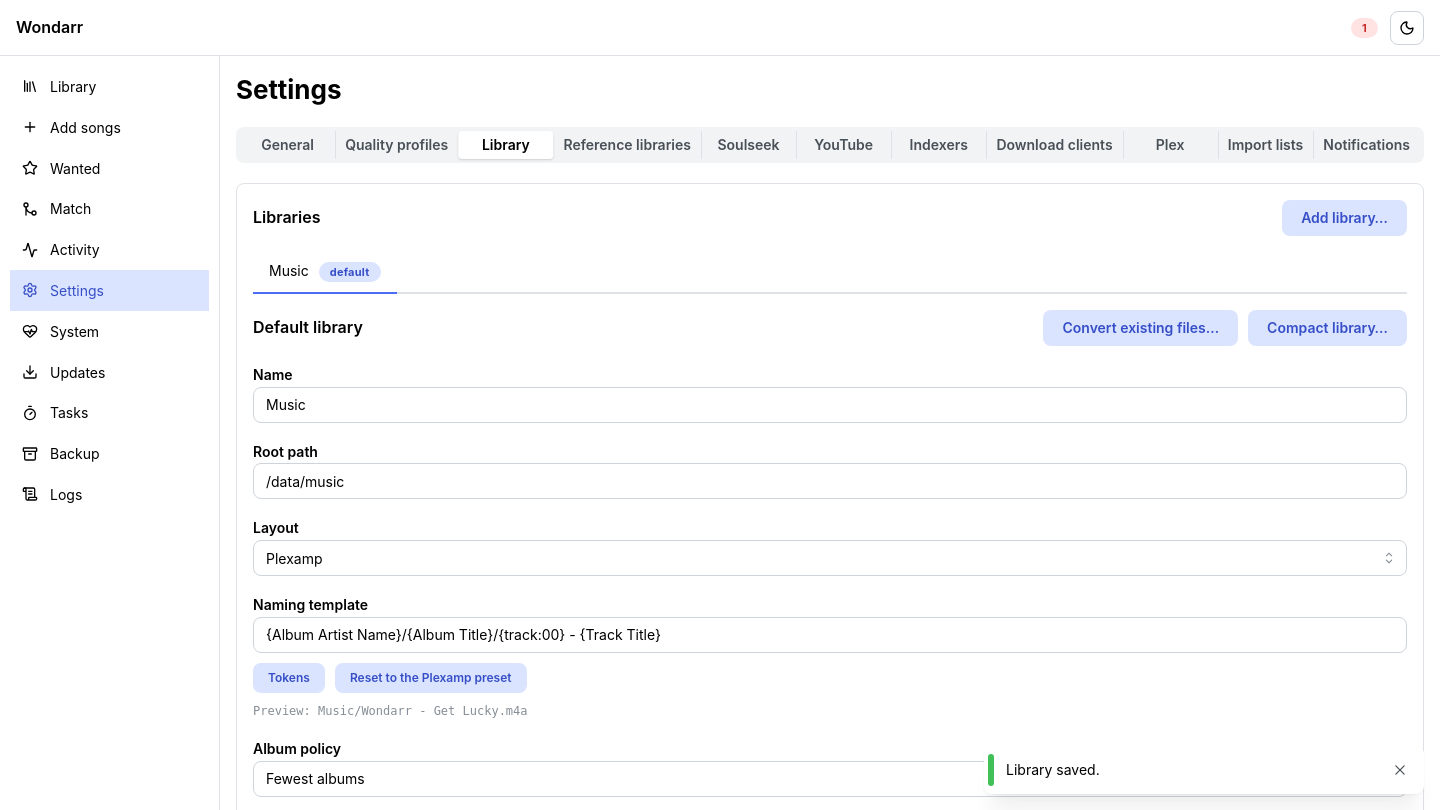
Test case: LibrarySettingsPage › opens the Compact library dialog from the library card
This screenshot has width=1440, height=810.
Check: the field showing "Music" is shown, box [253,387,1407,423]
Click the button "Compact library…". click: point(1328, 328)
box: [1248,310,1407,346]
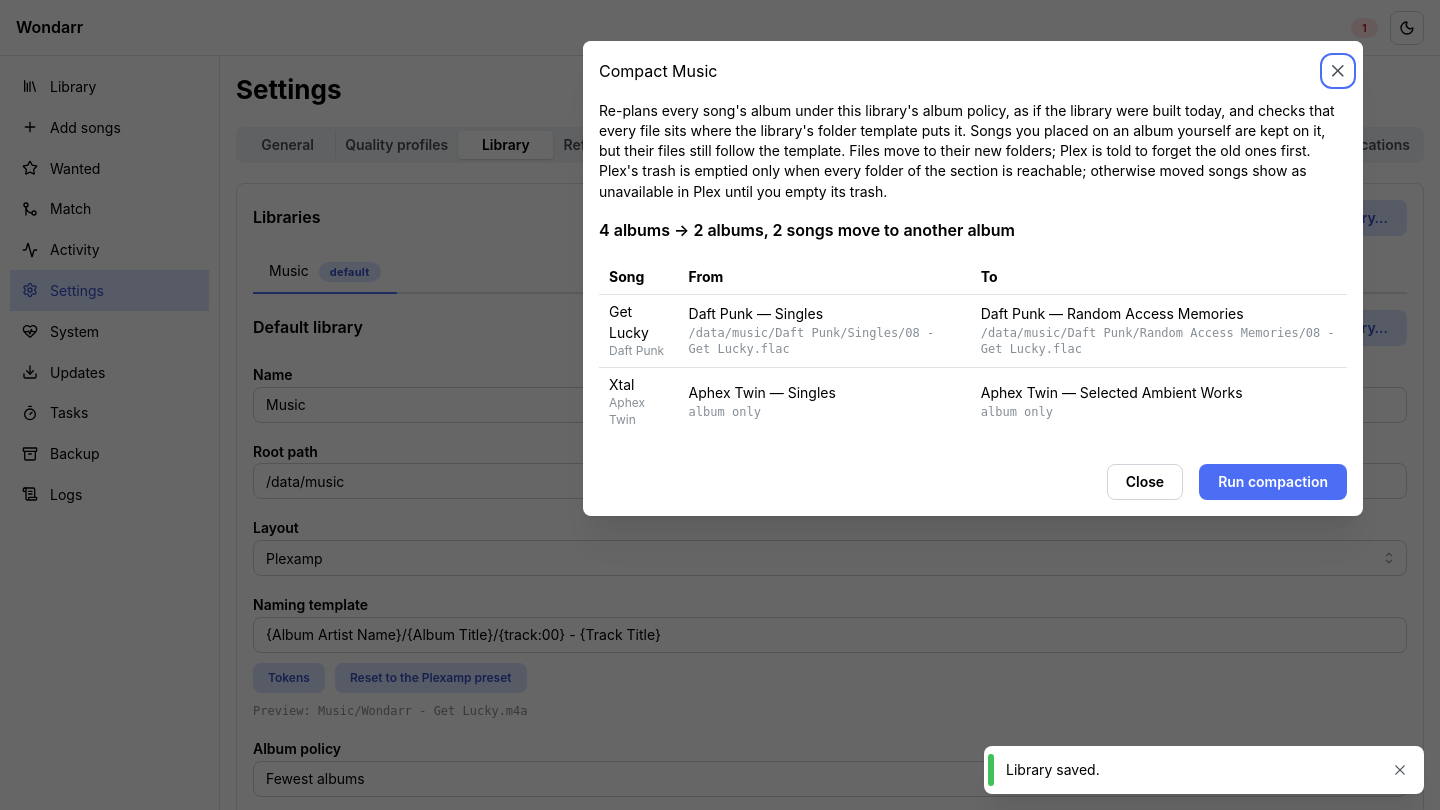
Check: the text "4 albums → 2 albums, 2 songs move to another album" is shown, box [599,220,1015,240]
